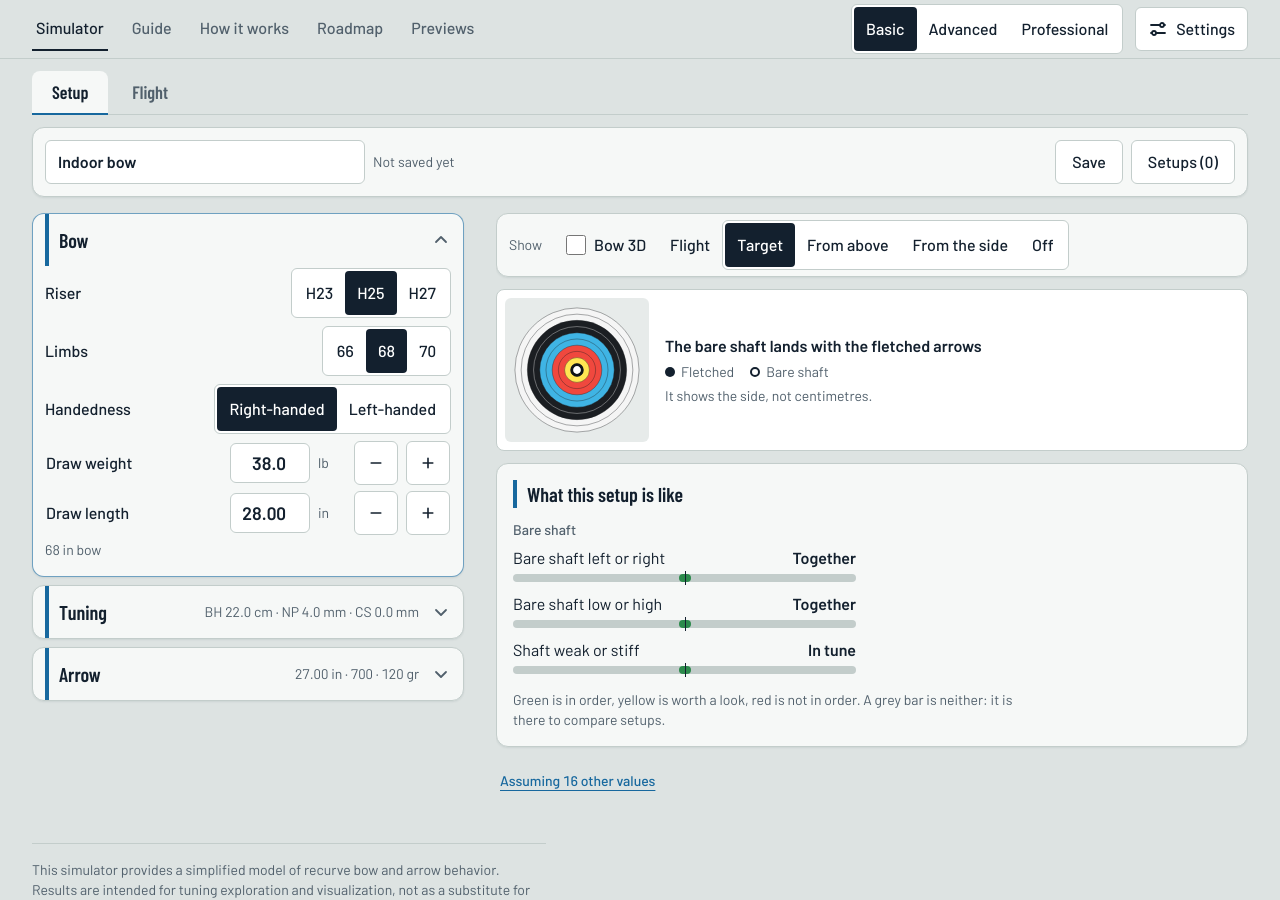
Test case: bow size › works out the bow length from riser and limbs
Click the radio button labelled "H27" at (422, 292), box [409,283,436,302]
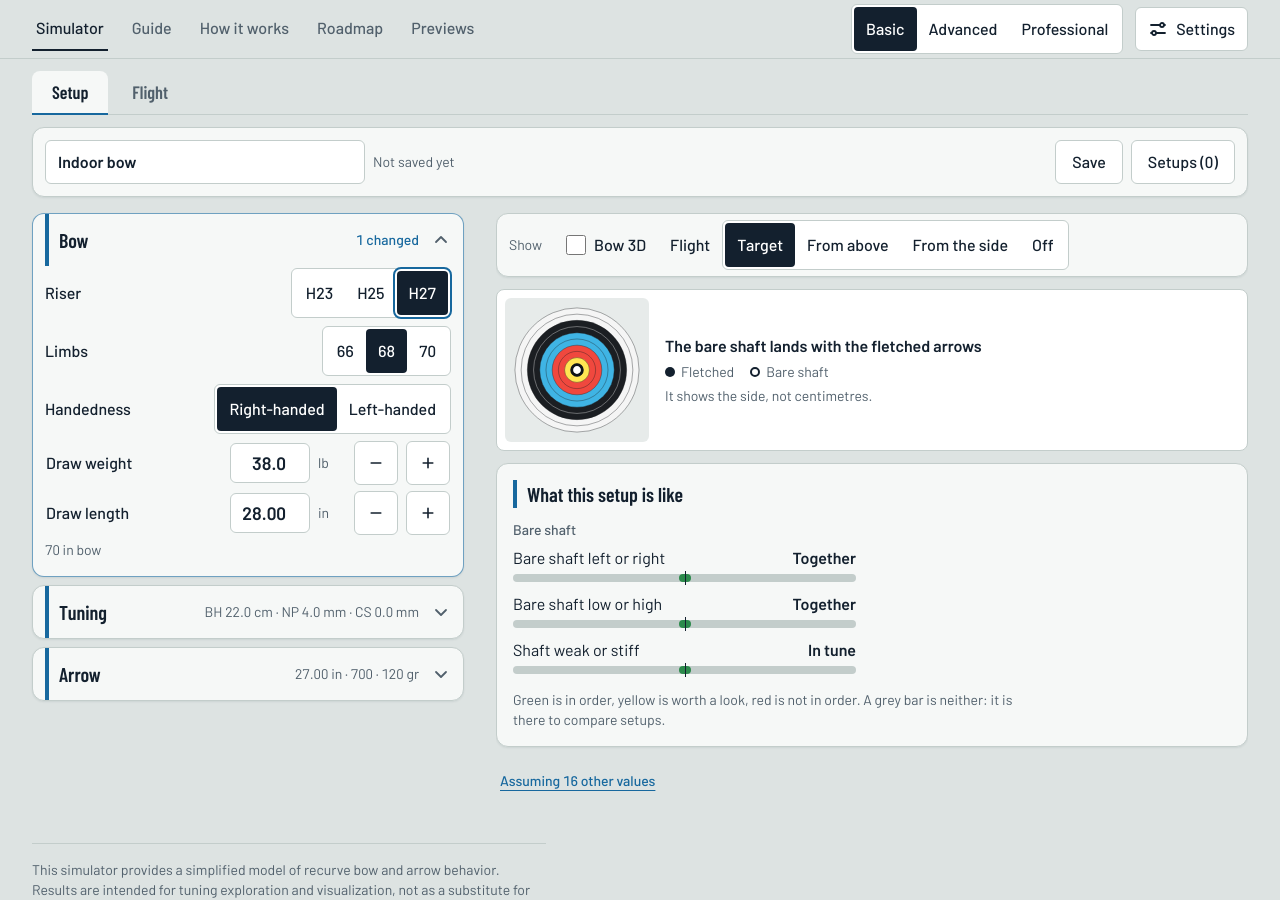
Check: the radio button labelled "H27" is shown, box [397,271,448,315]
Check: the text "70 in bow" is shown, box [45,541,102,558]
Click the radio button labelled "66" at (345, 350), box [337,341,354,360]
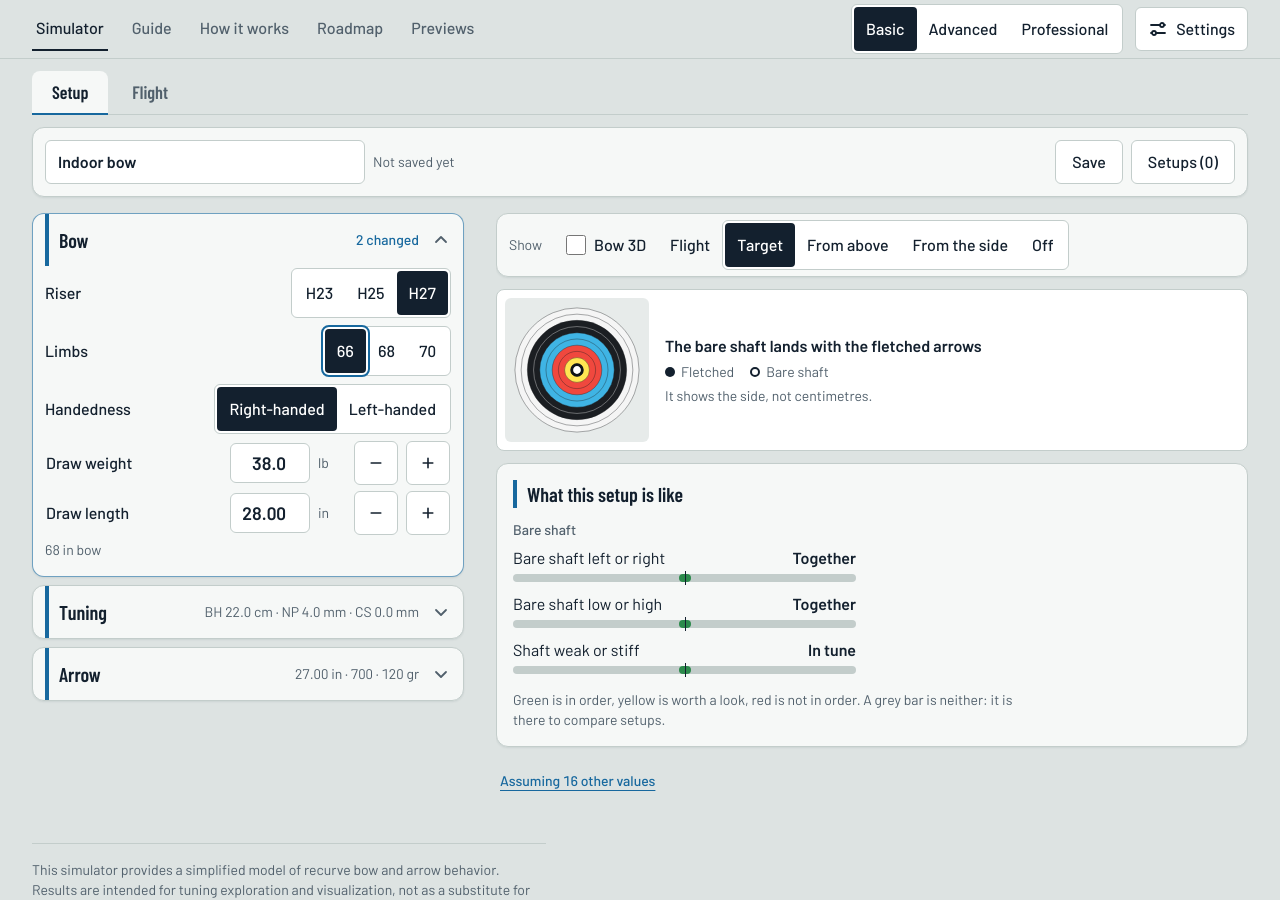
Check: the text "68 in bow" is shown, box [45,541,102,558]
